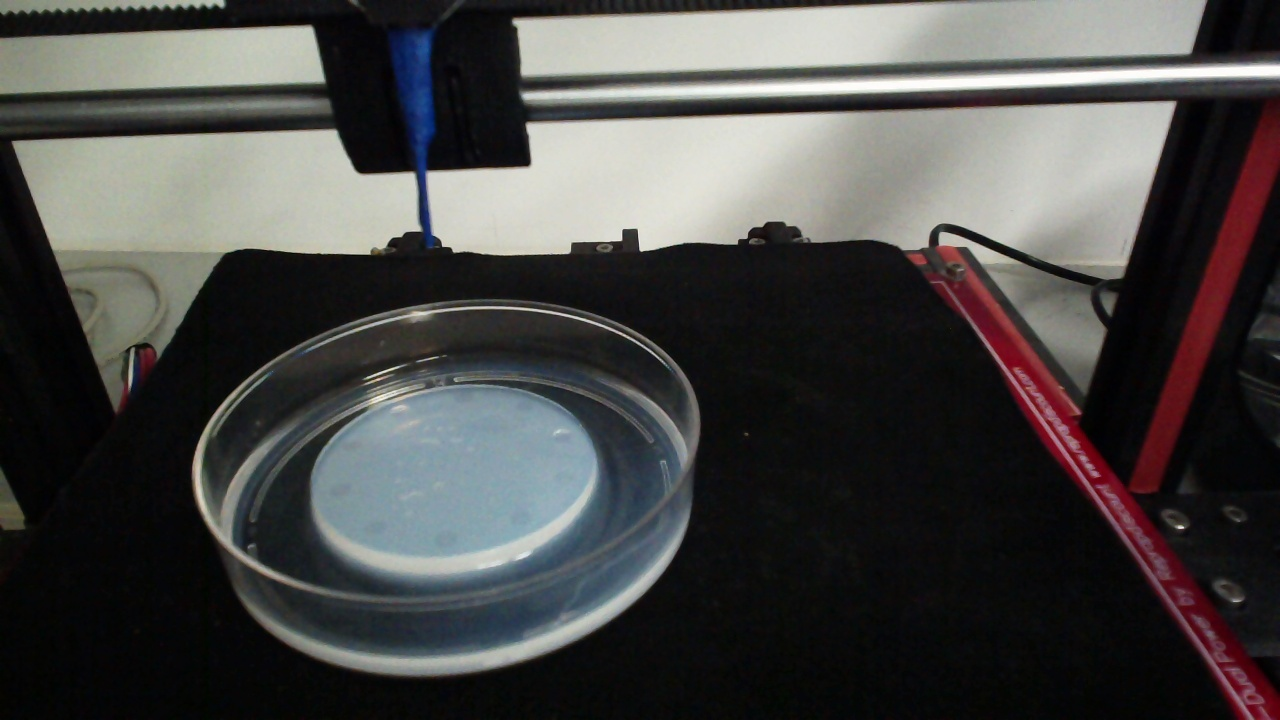groove: (431, 527, 461, 550), (359, 517, 389, 540), (510, 506, 534, 529), (451, 386, 476, 407), (329, 481, 354, 501), (552, 469, 576, 487), (551, 426, 571, 446), (342, 439, 364, 455), (389, 403, 409, 420), (514, 396, 535, 412)
needle: (391, 32, 434, 250)
